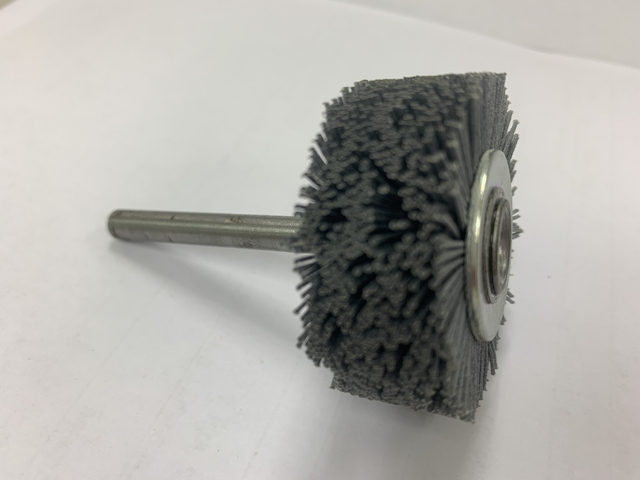Wheel Brush: (76, 60, 542, 431), (99, 78, 522, 411), (64, 99, 554, 385), (240, 46, 555, 437)
